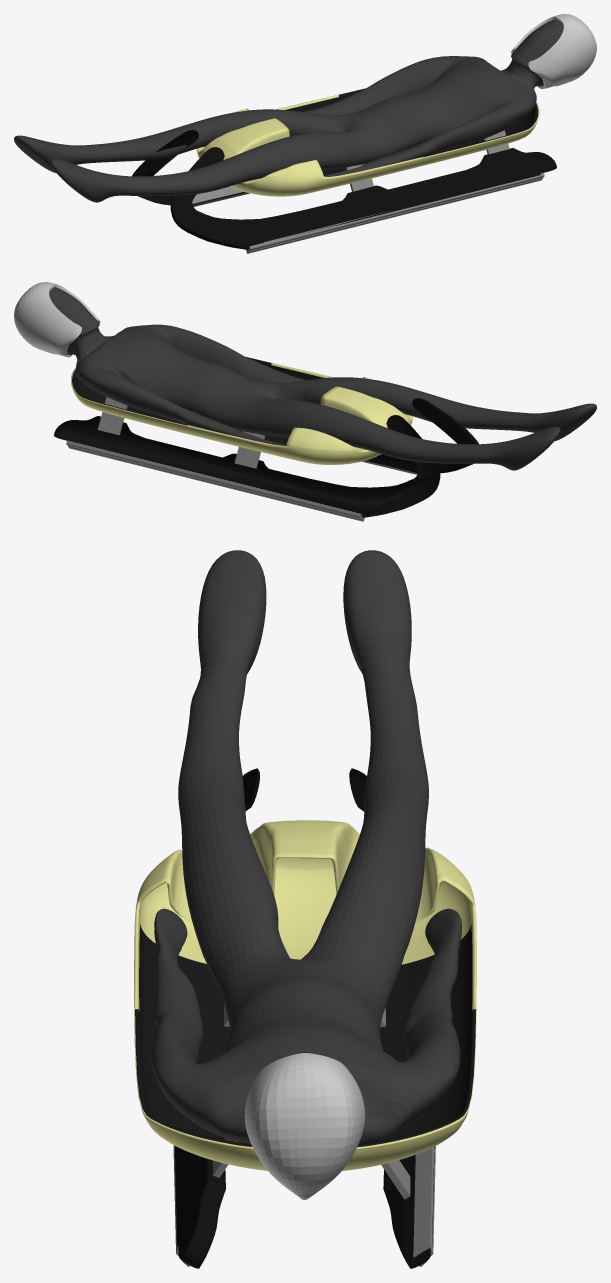
File: sled.glb
The picture shows the model from 3 angles, top to bottom: view 1: azimuth 30°, elevation 25°; view 2: azimuth 150°, elevation 25°; view 3: azimuth 270°, elevation 25°; orthographic projection. The views are drawn at different scales.
Parts seen in each view (by area): view 1: Sled; view 2: Sled; view 3: Sled.
Boxes of the visible parts, x1,y1,x2,y2 form: Sled: [14, 14, 596, 253]; Sled: [14, 282, 596, 521]; Sled: [134, 550, 476, 1268].
Bounding box in the file's own units: 1.89 × 0.4207 × 0.5038.
